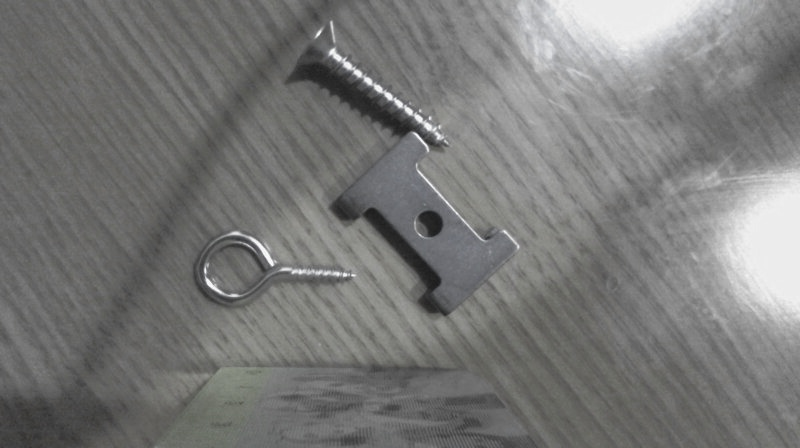O001: (190, 226, 358, 310)
O002: (328, 126, 523, 318)
S001: (290, 17, 453, 154)
